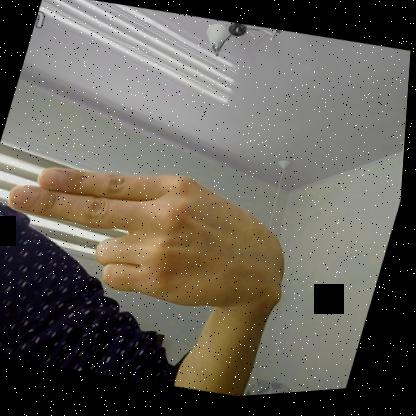H: (0, 138, 318, 341)
